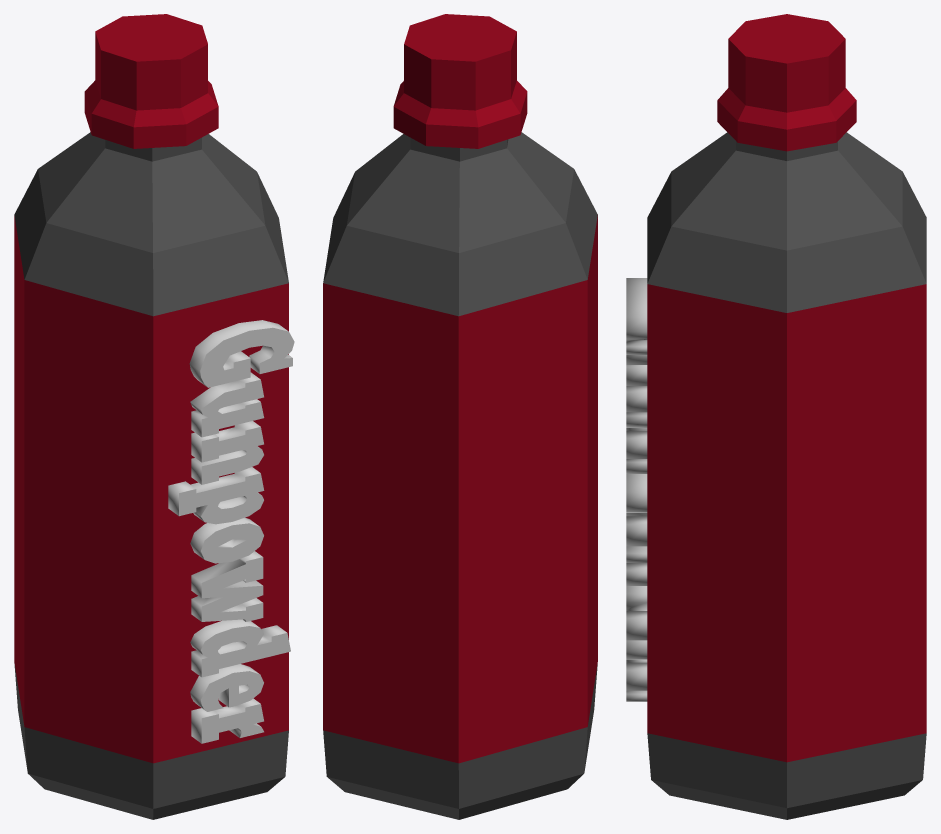
Rendered from Gunpowder_Small.glb.
3 views of the same model, side by side, from view 1: azimuth 30°, elevation 25°; view 2: azimuth 150°, elevation 25°; view 3: azimuth 270°, elevation 25° (orthographic).
Parts seen in each view (by area): view 1: Gunpowder_Small; view 2: Gunpowder_Small; view 3: Gunpowder_Small.
Boxes of the visible parts, bbox=[...] form: Gunpowder_Small: bbox=[14, 14, 294, 819]; Gunpowder_Small: bbox=[323, 14, 597, 819]; Gunpowder_Small: bbox=[626, 14, 926, 819].
Size of the model in its own units: 0.042 by 0.1143 by 0.0427.
Materials: 1 (1 with a texture image).
